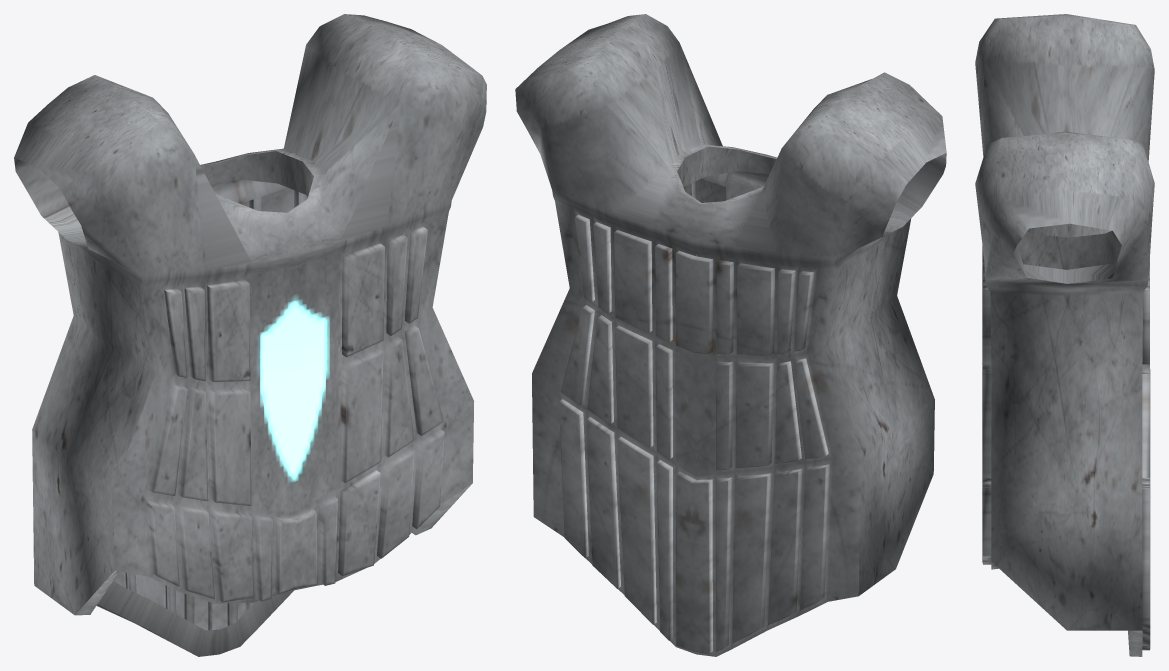
File: METAL CHEST ARMOR.fbx
3 views of the same model, side by side, from view 1: azimuth 30°, elevation 25°; view 2: azimuth 150°, elevation 25°; view 3: azimuth 270°, elevation 25° (orthographic). The views are drawn at different scales.
Parts seen in each view (by area): view 1: CHEST ARMOR 2; view 2: CHEST ARMOR 2; view 3: CHEST ARMOR 2.
Boxes of the visible parts, x1=… form: CHEST ARMOR 2: x1=14, y1=14, x2=486, y2=656; CHEST ARMOR 2: x1=515, y1=14, x2=946, y2=656; CHEST ARMOR 2: x1=975, y1=14, x2=1154, y2=656.
Size of the model in its own units: 380 by 525 by 148.
